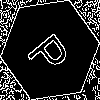P: (25, 25, 78, 79)
